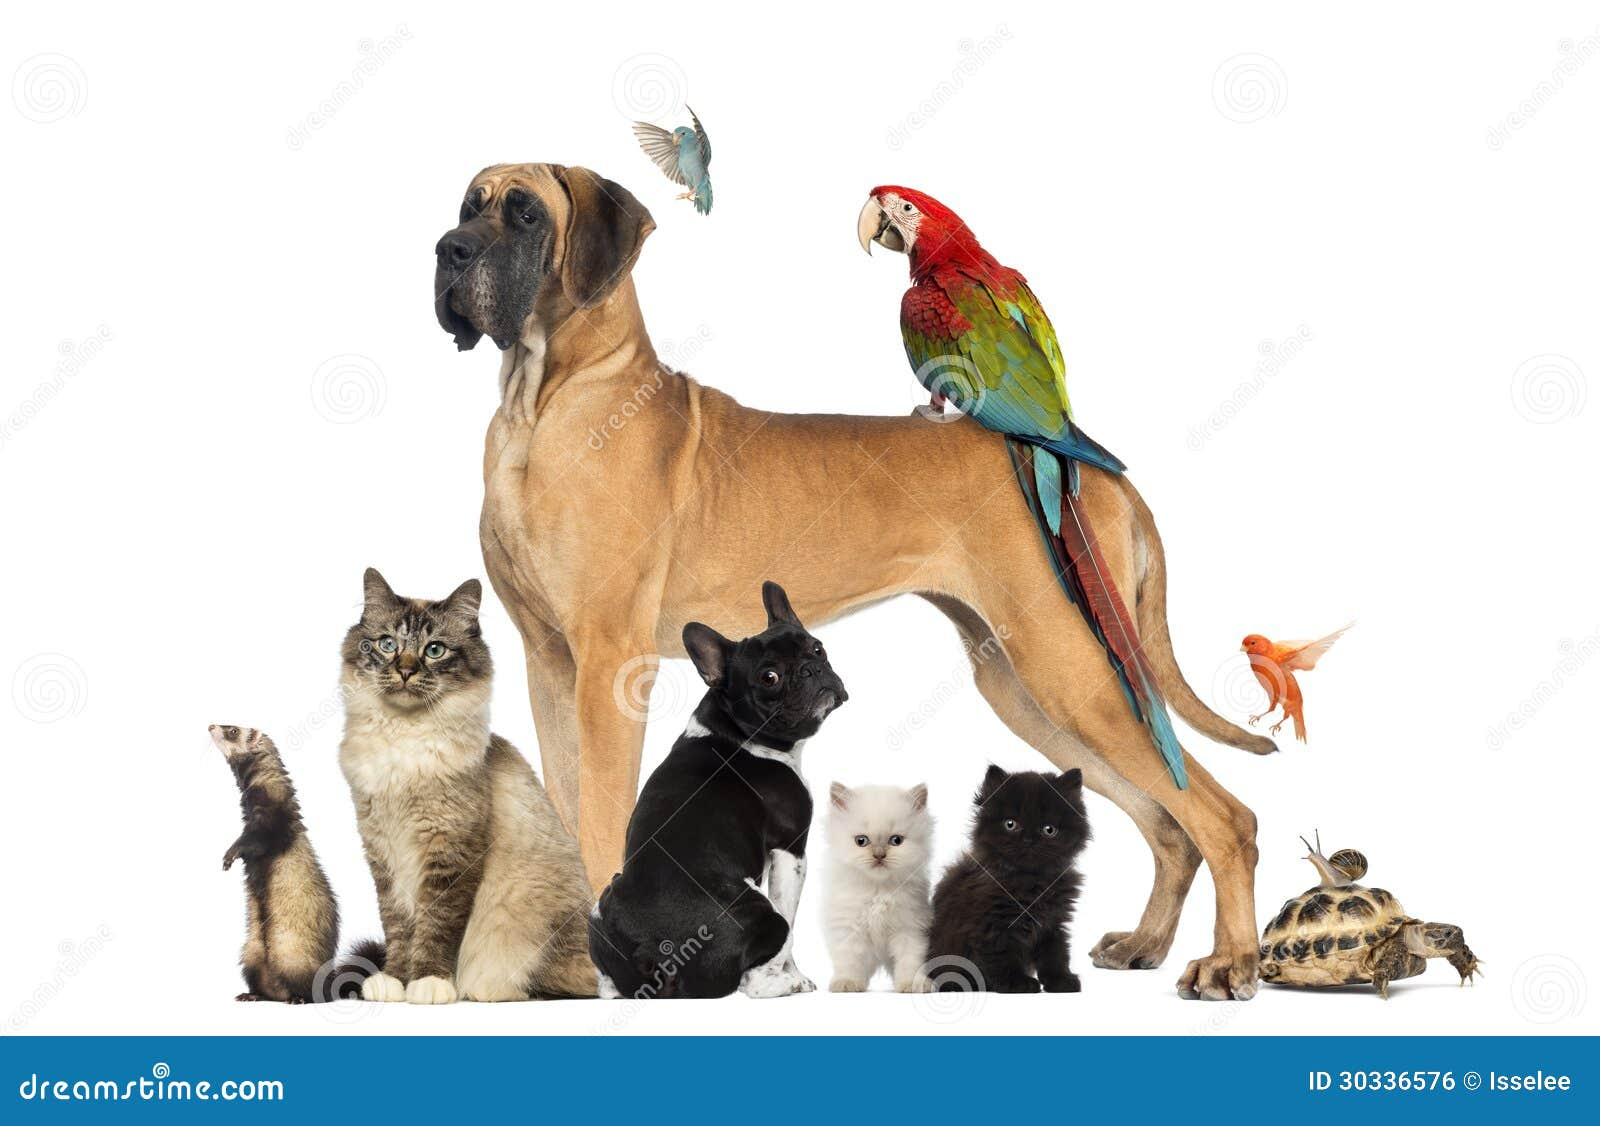cat: (328, 562, 574, 994), (960, 760, 1078, 1000), (827, 780, 924, 1004)
dog: (395, 162, 740, 600), (660, 613, 829, 941)
